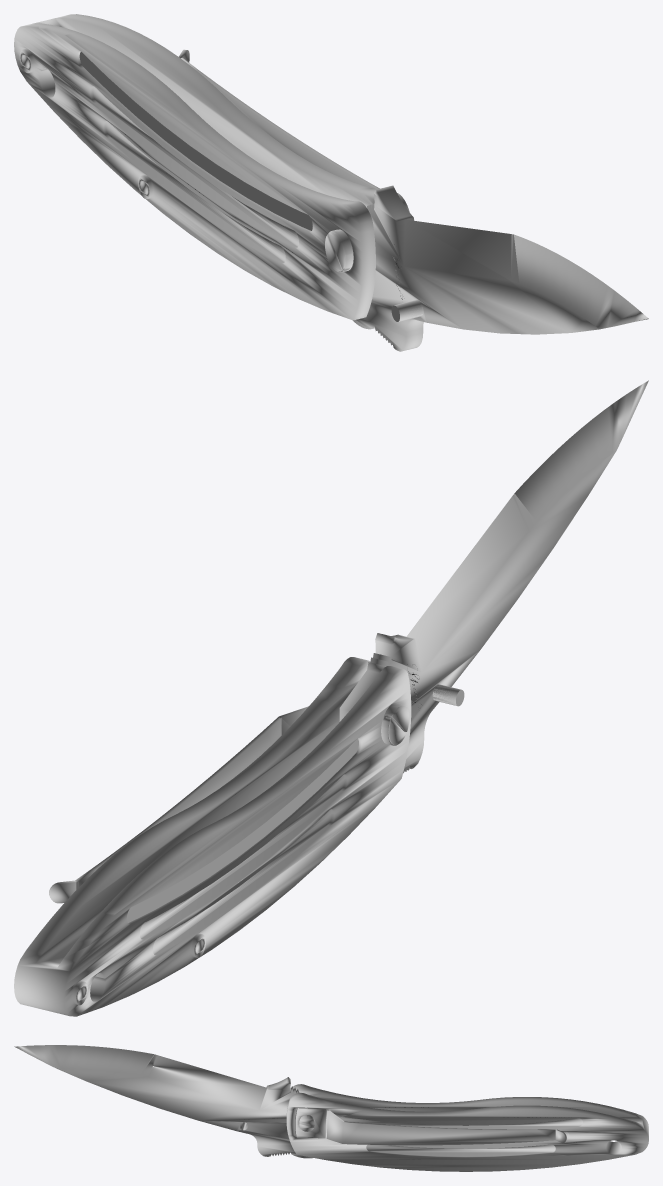
File: model_scale.obj
The picture shows the model from 3 angles, top to bottom: view 1: azimuth 30°, elevation 25°; view 2: azimuth 150°, elevation 25°; view 3: azimuth 270°, elevation 25°; orthographic projection. The views are drawn at different scales.
Parts seen in each view (by area): view 1: mesh10_mesh10-geometry, mesh11_mesh11-geometry; view 2: mesh10_mesh10-geometry, mesh11_mesh11-geometry; view 3: mesh10_mesh10-geometry, mesh11_mesh11-geometry.
Part boxes in pixels (left/top/right/bottom): mesh10_mesh10-geometry: left=14, top=14, right=409, bottom=320; mesh11_mesh11-geometry: left=353, top=185, right=648, bottom=351; mesh10_mesh10-geometry: left=14, top=657, right=411, bottom=1016; mesh11_mesh11-geometry: left=339, top=380, right=648, bottom=773; mesh10_mesh10-geometry: left=286, top=1084, right=648, bottom=1171; mesh11_mesh11-geometry: left=14, top=1045, right=312, bottom=1158.
Size of the model in its own units: 0.0224 by 0.0479 by 0.2293.
